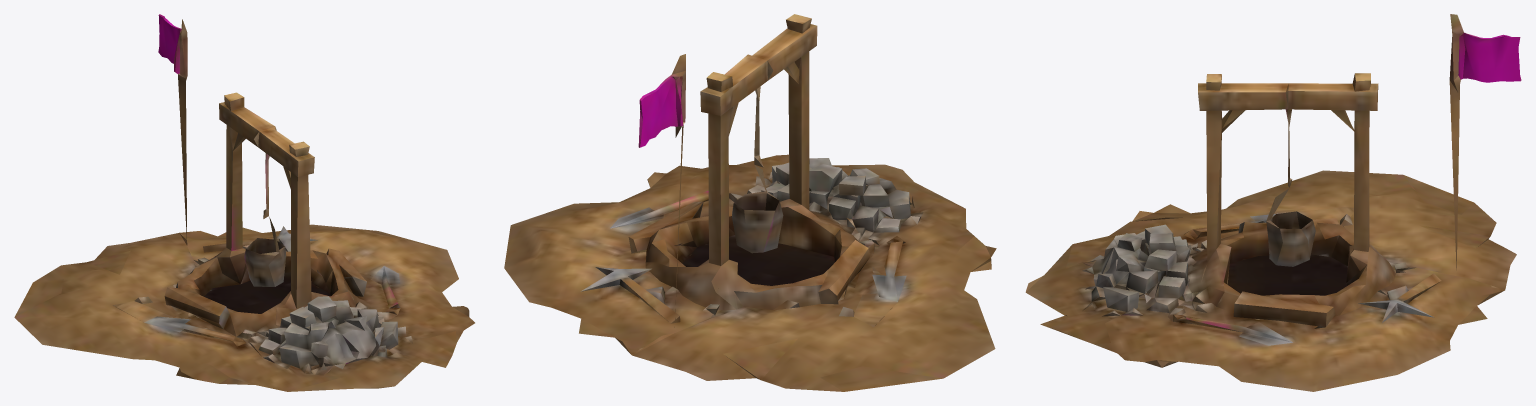
File: stone_mine.lod2.glb
The picture shows the model from 3 angles, left to right: view 1: azimuth 30°, elevation 25°; view 2: azimuth 150°, elevation 25°; view 3: azimuth 270°, elevation 25°; orthographic projection. The views are drawn at different scales.
Visible parts, largest first — view 1: stone_mine.lod2_uv; view 2: stone_mine.lod2_uv; view 3: stone_mine.lod2_uv.
Boxes of the visible parts, <box> form: stone_mine.lod2_uv: <box>14,14,474,391</box>; stone_mine.lod2_uv: <box>504,14,996,391</box>; stone_mine.lod2_uv: <box>1025,14,1521,391</box>.
Bounding box in the file's own units: 1.78 × 0.9965 × 1.68.
Materials: 1 (1 with a texture image).
